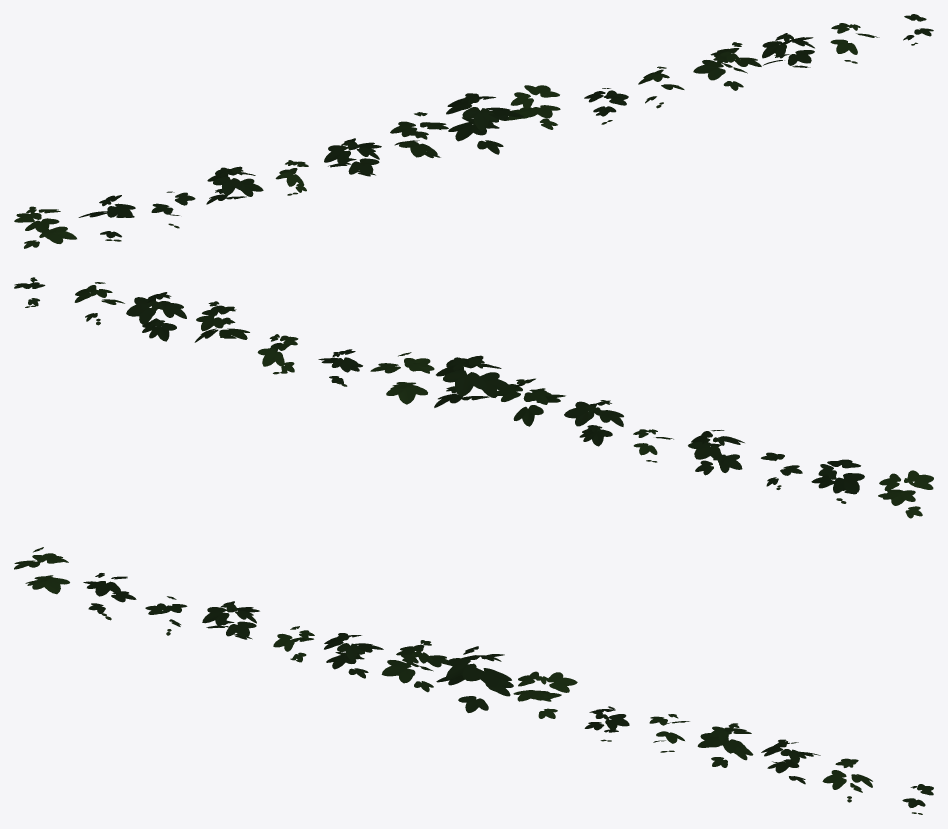
File: ROW_02_SEG0_foliage.dae
The picture shows the model from 3 angles, top to bottom: view 1: azimuth 30°, elevation 25°; view 2: azimuth 150°, elevation 25°; view 3: azimuth 330°, elevation 25°; orthographic projection.
Parts seen in each view (by area): view 1: ROW_02_SEG0_foliage; view 2: ROW_02_SEG0_foliage; view 3: ROW_02_SEG0_foliage.
Boxes of the visible parts, x1=… form: ROW_02_SEG0_foliage: x1=14, y1=14, x2=933, y2=248; ROW_02_SEG0_foliage: x1=14, y1=277, x2=933, y2=518; ROW_02_SEG0_foliage: x1=14, y1=547, x2=933, y2=814.
Bounding box in the file's own units: 4.46 × 0.3318 × 0.278.
